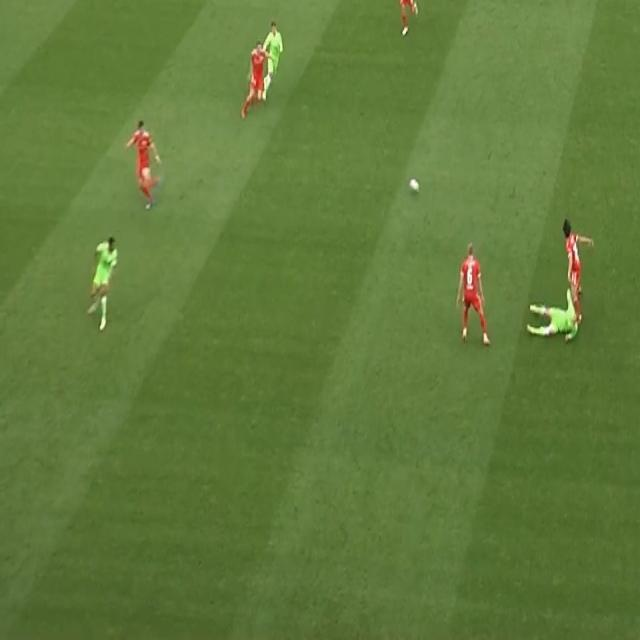ball: (408, 175, 421, 196)
